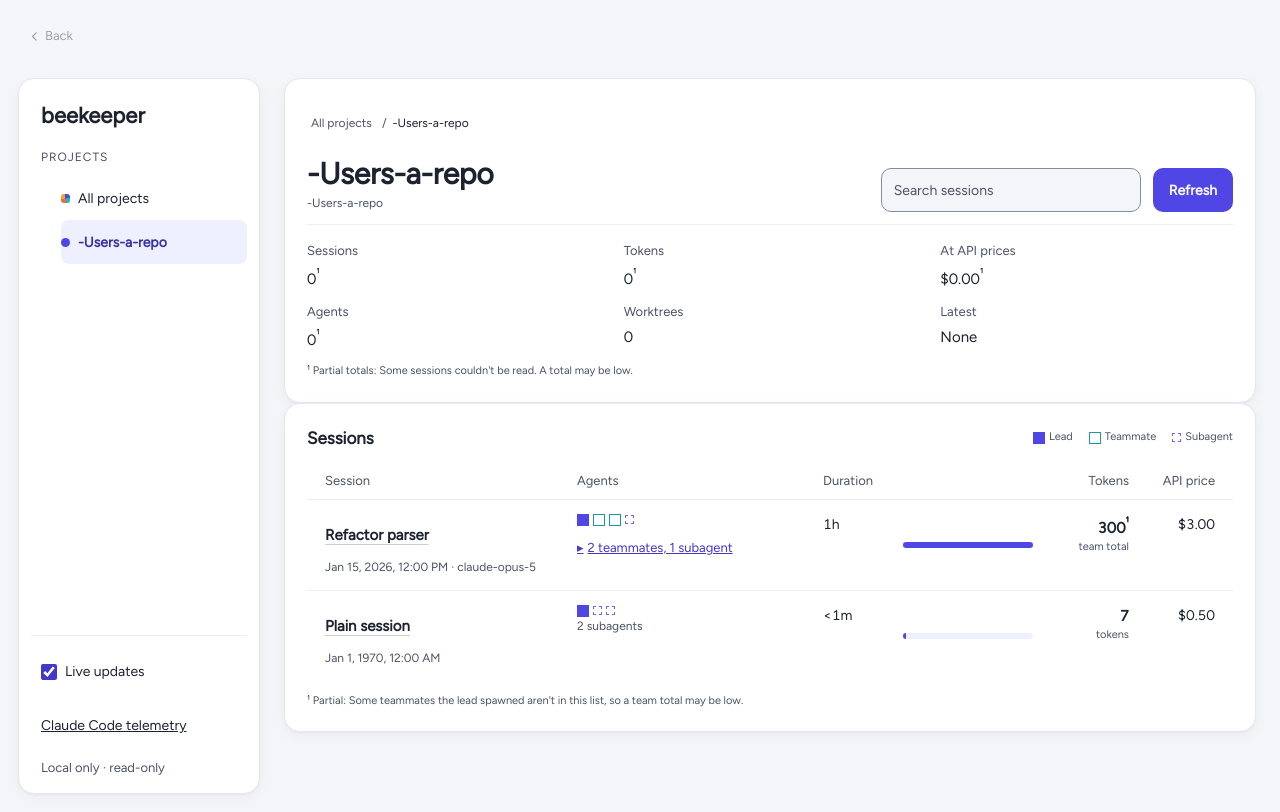
Test: session cards: search › keeps the lead of a matching teammate opened to all its teammates, marking only the match
In the search field labelled "Search sessions": (1011, 190) [881, 168, 1141, 212], type "review"
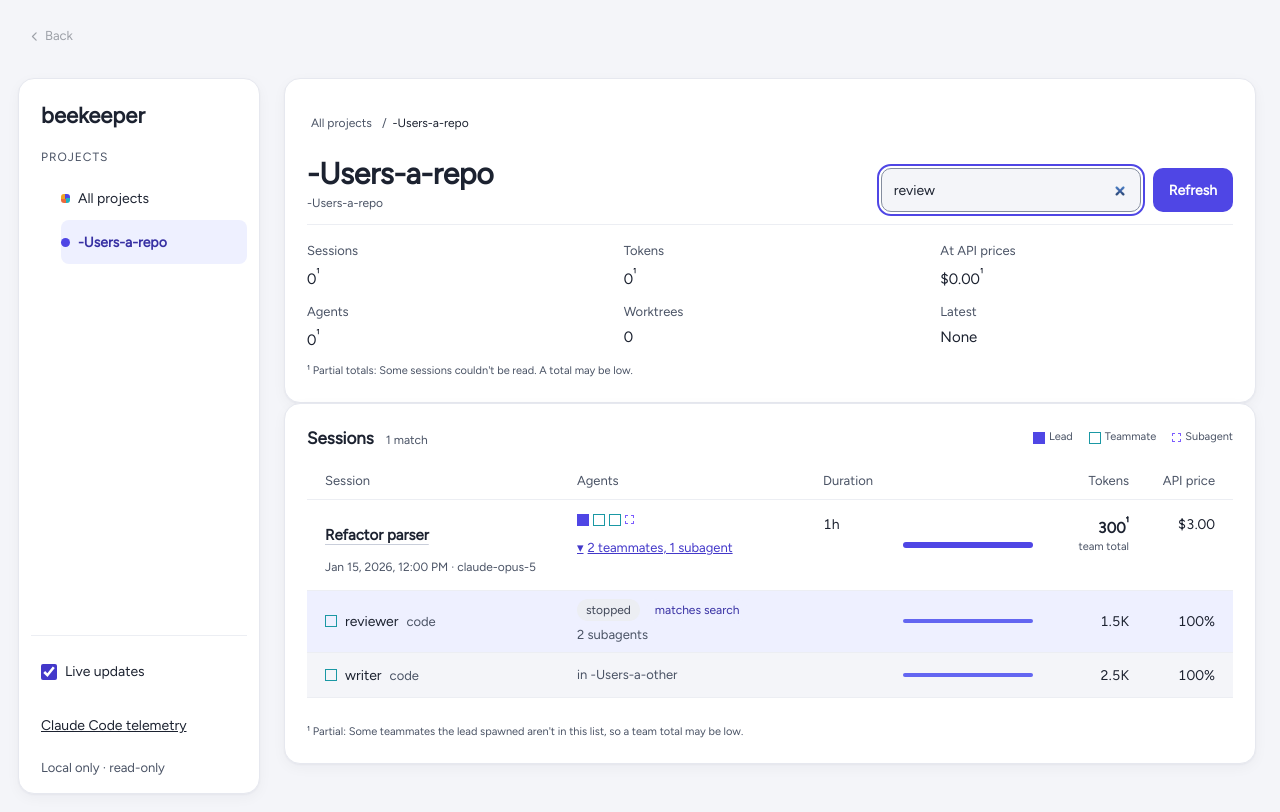
Expected: the button "Plain session" is gone
Expected: the text "matches search" is shown, [646, 598, 748, 620]
